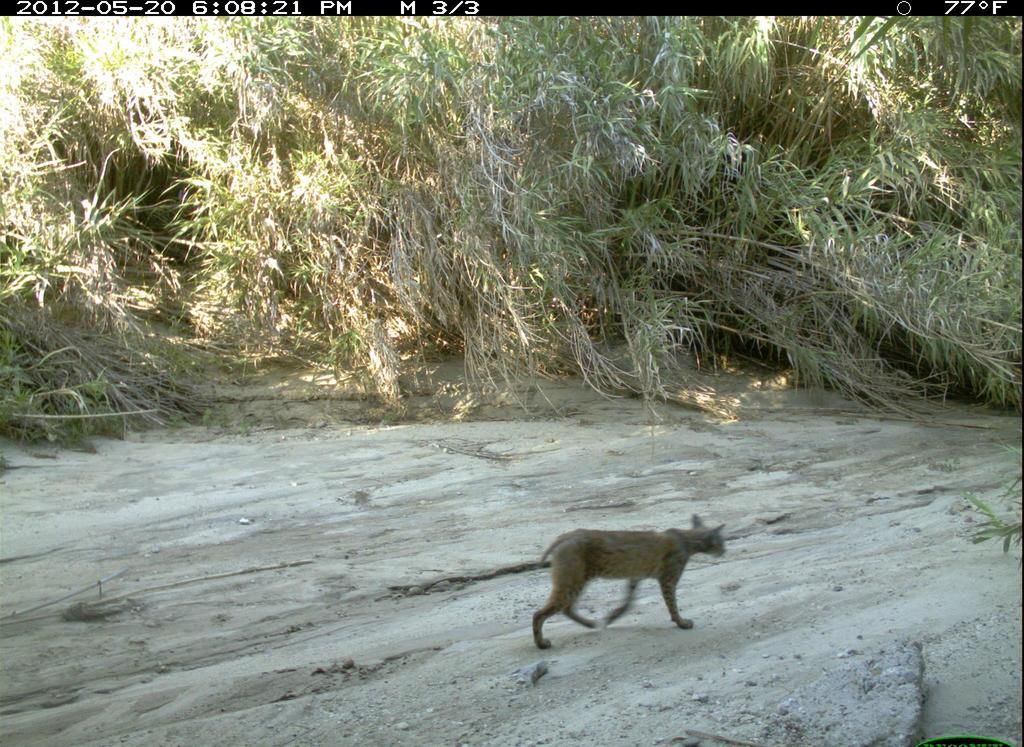bobcat: (524, 513, 734, 662)
